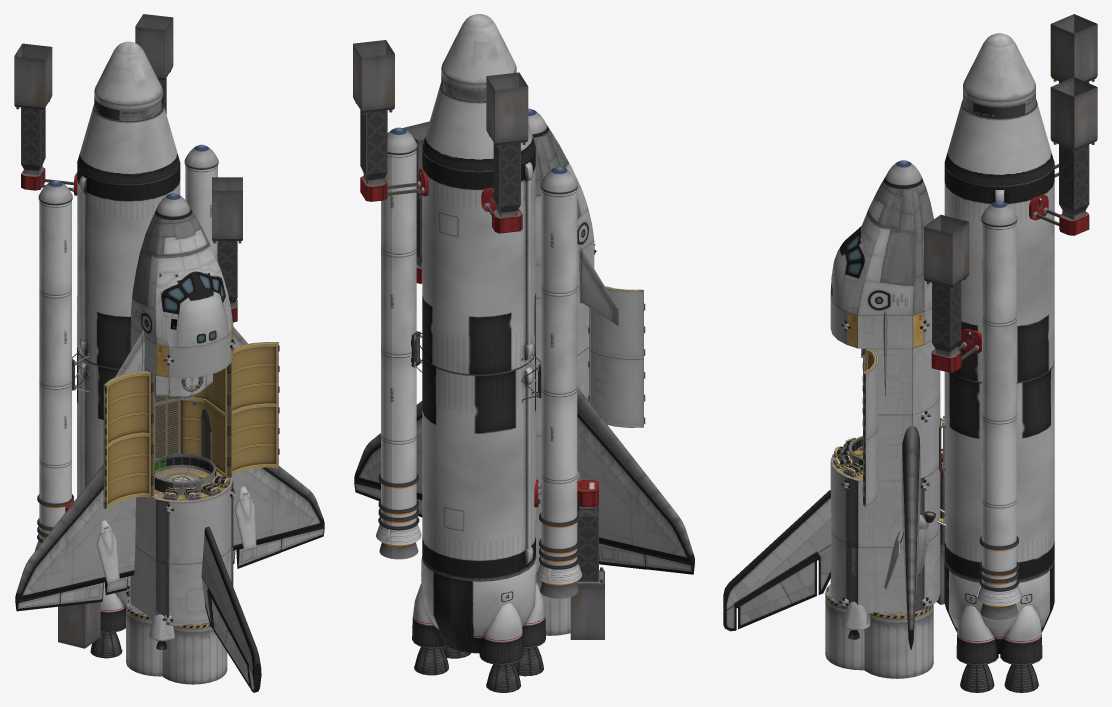
The picture shows the model from 3 angles, left to right: view 1: azimuth 30°, elevation 25°; view 2: azimuth 150°, elevation 25°; view 3: azimuth 270°, elevation 25°; orthographic projection. The views are drawn at different scales.
Parts seen in each view (by area): view 1: Size3LargeTank.004 (×2), DeltaWing.002 (×2), MassiveSRB.007 (×2), LFO_5m.003, cockpit.001, obj_ground_mesh.004 (×4), BayDoor1.004, BayDoor2.004, Size3to2Adapter.003, Base.011, obj_fairing.003 (×2), ShuttleRudder.003 (+14 smaller); view 2: Size3LargeTank.004 (×2), MassiveSRB.007 (×2), DeltaWing.002 (×2), Size3EngineCluster.003, obj_ground_mesh.004 (×4), BayDoor2.004, obj_girder_mesh.004 (×3), Size3to2Adapter.003, nose.001, cockpit.001, Base.011, base.009 (×3) (+11 smaller); view 3: Size3LargeTank.004 (×2), MassiveSRB.007, LFO_5m.003, cockpit.001, obj_ground_mesh.004 (×3), Size3EngineCluster.003, Base.011, Size3to2Adapter.003, obj_fairing.003 (×2), ShuttleRudder.003, nose.001, obj_girder_mesh.004 (×2) (+10 smaller).
Boxes of the visible parts, x1,y1,x2,y2 form: Size3LargeTank.004 (×2): (77, 163, 180, 497); DeltaWing.002 (×2): (15, 409, 324, 600); MassiveSRB.007 (×2): (35, 162, 218, 550); LFO_5m.003: (130, 467, 233, 626); cockpit.001: (130, 208, 233, 347); obj_ground_mesh.004 (×4): (14, 14, 242, 648); BayDoor1.004: (228, 342, 279, 477); BayDoor2.004: (103, 371, 151, 509); Size3to2Adapter.003: (77, 104, 180, 184); Base.011: (144, 366, 229, 495); obj_fairing.003 (×2): (126, 607, 227, 684); ShuttleRudder.003: (201, 526, 261, 692); Size3LargeTank.004 (×2): (422, 148, 535, 579); MassiveSRB.007 (×2): (376, 144, 581, 598); DeltaWing.002 (×2): (354, 387, 694, 562); Size3EngineCluster.003: (412, 556, 545, 664); obj_ground_mesh.004 (×4): (353, 40, 604, 639); BayDoor2.004: (589, 286, 645, 427); obj_girder_mesh.004 (×3): (360, 110, 598, 581); Size3to2Adapter.003: (422, 82, 535, 170); nose.001: (441, 14, 516, 89); cockpit.001: (532, 125, 594, 264); Base.011: (535, 286, 589, 435); base.009 (×3): (360, 173, 598, 509); Size3LargeTank.004 (×2): (944, 161, 1054, 580); MassiveSRB.007: (976, 219, 1022, 619); LFO_5m.003: (830, 451, 940, 613); cockpit.001: (830, 176, 933, 315); obj_ground_mesh.004 (×3): (924, 14, 1097, 289); Size3EngineCluster.003: (944, 559, 1054, 665); Base.011: (869, 341, 940, 480); Size3to2Adapter.003: (944, 99, 1054, 185); obj_fairing.003 (×2): (825, 595, 933, 678); ShuttleRudder.003: (723, 490, 831, 631); nose.001: (963, 33, 1035, 106); obj_girder_mesh.004 (×2): (932, 144, 1089, 347).
Size of the model in its own units: 12.99 by 23.89 by 12.8.
Materials: 42 (42 with a texture image).
